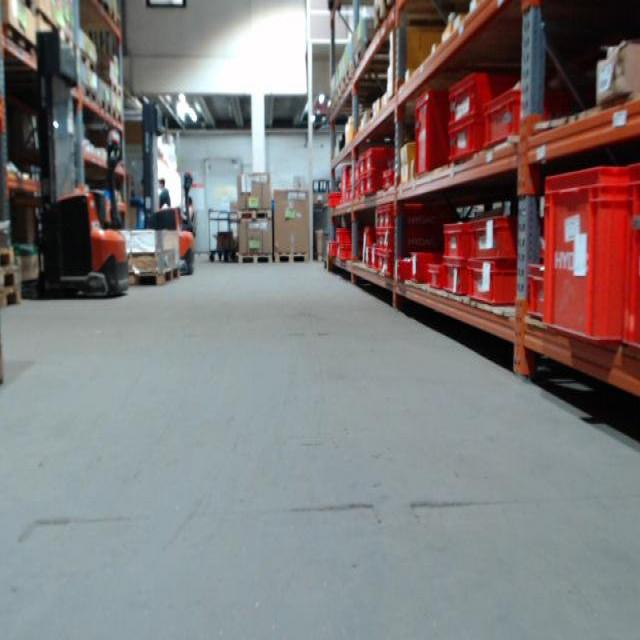pallet: (128, 265, 180, 288), (374, 0, 395, 28), (237, 251, 273, 265), (79, 48, 98, 74), (0, 287, 21, 310), (273, 252, 310, 265), (237, 209, 272, 222), (0, 247, 16, 269), (0, 270, 18, 289), (84, 87, 98, 107), (109, 79, 123, 97), (101, 98, 112, 114), (112, 109, 123, 124)
pallet_truck: (25, 26, 125, 288), (138, 99, 196, 271), (98, 126, 135, 232)
small_load_carrier: (543, 162, 623, 354), (478, 86, 549, 141), (442, 67, 510, 121), (621, 157, 638, 357), (467, 211, 533, 258), (409, 88, 444, 173), (468, 258, 523, 309), (444, 116, 484, 164), (520, 254, 546, 322), (437, 216, 474, 258), (358, 150, 387, 202), (442, 259, 475, 297), (385, 200, 422, 228), (382, 226, 419, 254), (364, 144, 396, 174), (381, 251, 408, 275), (414, 255, 433, 283), (336, 244, 362, 264), (423, 267, 444, 291), (381, 163, 397, 192), (336, 227, 363, 244), (369, 252, 384, 277), (374, 225, 383, 244), (374, 207, 381, 227), (358, 182, 365, 202)
